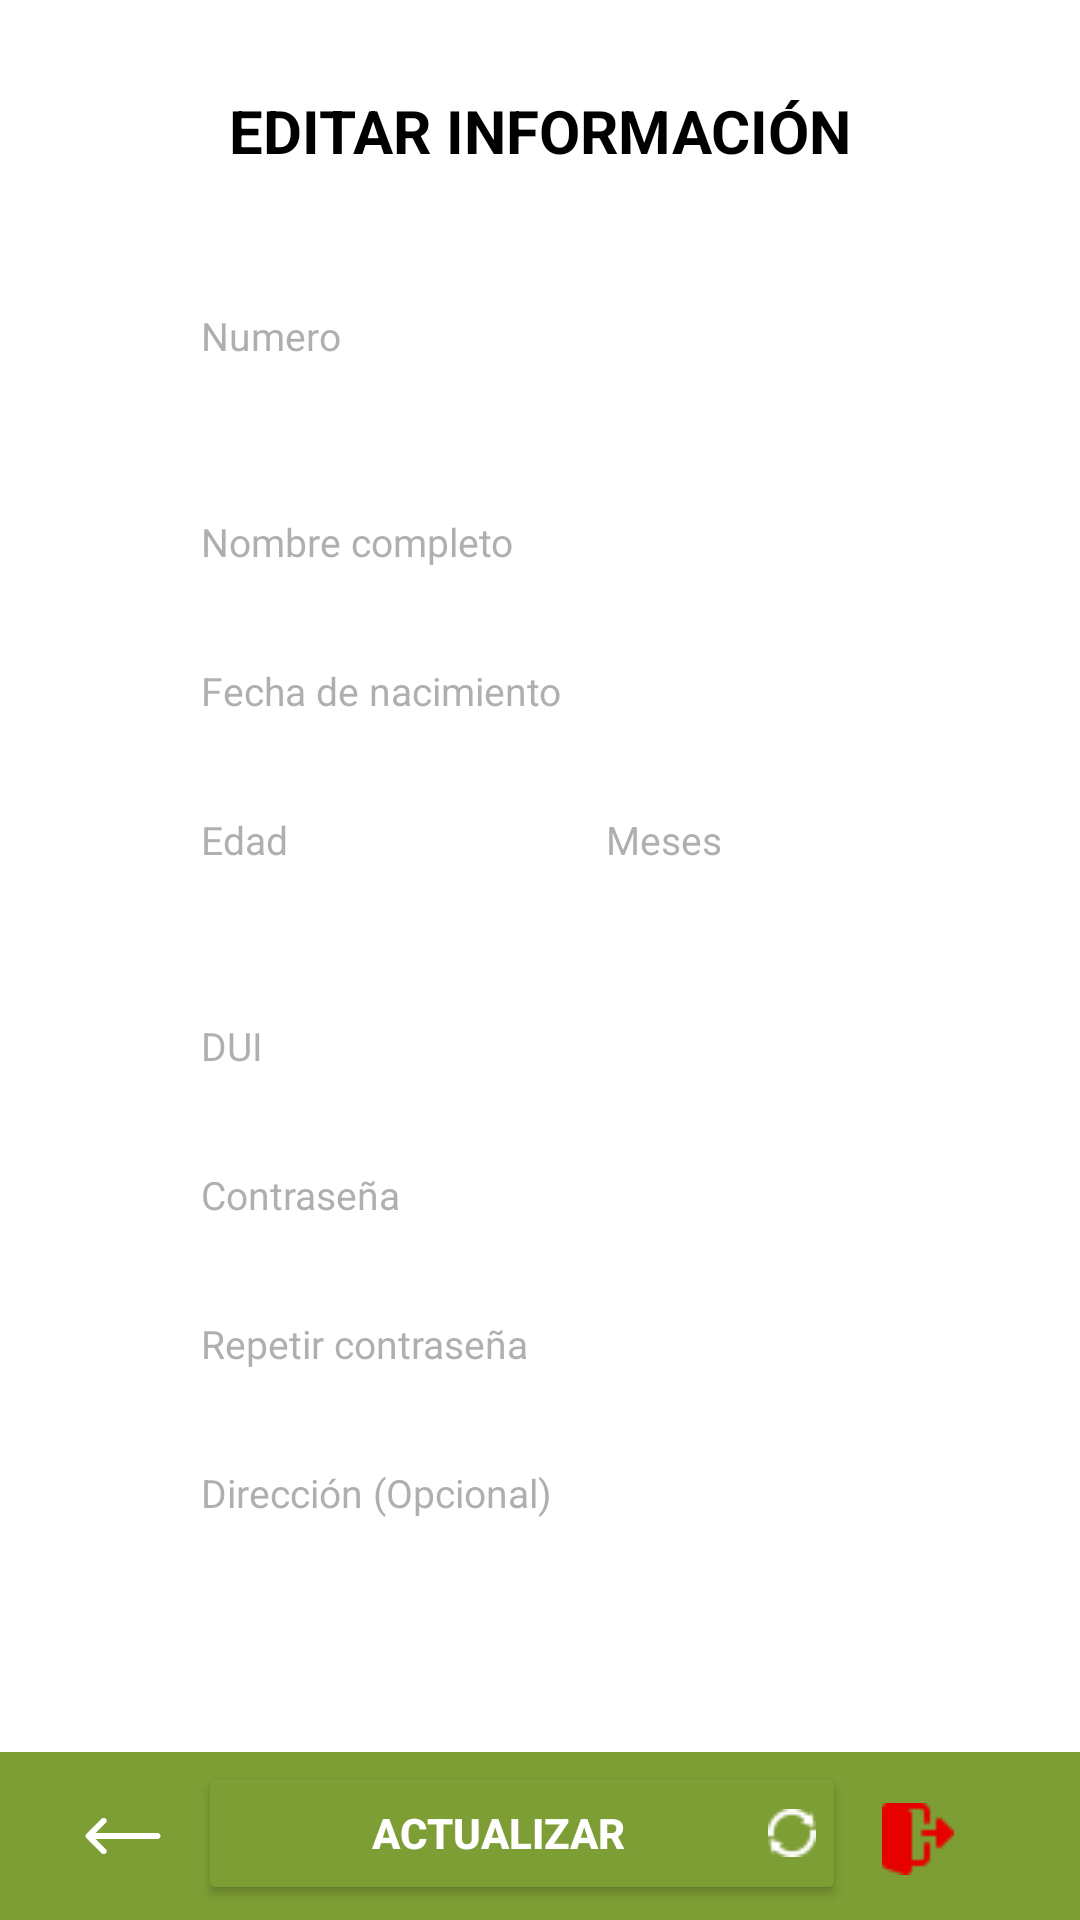

Icon click points for this 1080w x 1920h phone screenshot, format [x,y]:
regresarflecha: [123,1836]
